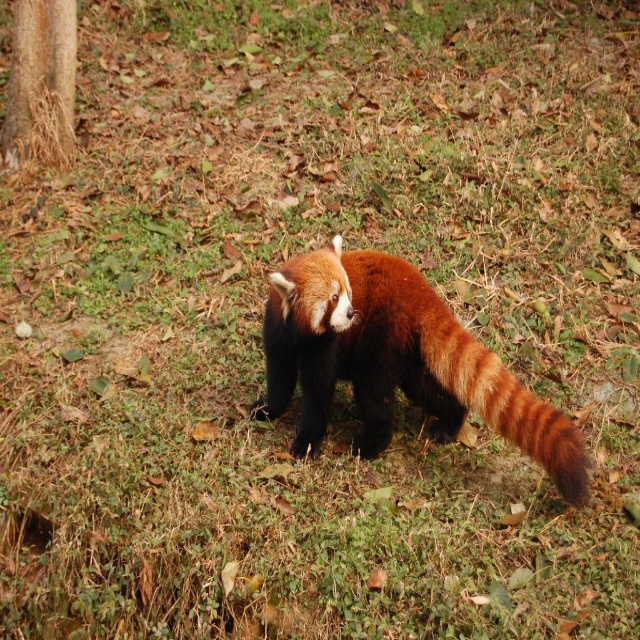Red panda: (248, 233, 594, 511)
